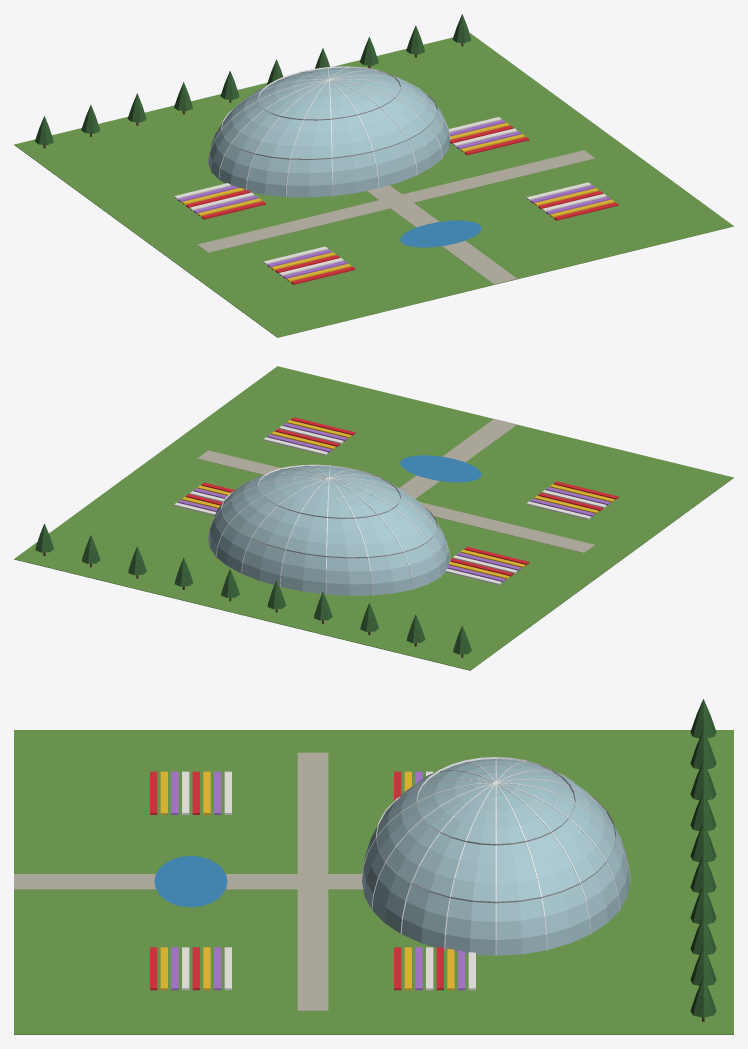
The model's file is botanical.glb.
3 views of the same model, one above another, from view 1: azimuth 30°, elevation 25°; view 2: azimuth 150°, elevation 25°; view 3: azimuth 270°, elevation 25° (orthographic). The views are drawn at different scales.
Visible parts, largest first — view 1: Botanical_static; view 2: Botanical_static; view 3: Botanical_static.
Part boxes in pixels (<box>): Botanical_static: <box>14,14,733,337</box>; Botanical_static: <box>14,366,733,670</box>; Botanical_static: <box>14,699,733,1034</box>.
Size of the model in its own units: 118 by 18.09 by 118.
